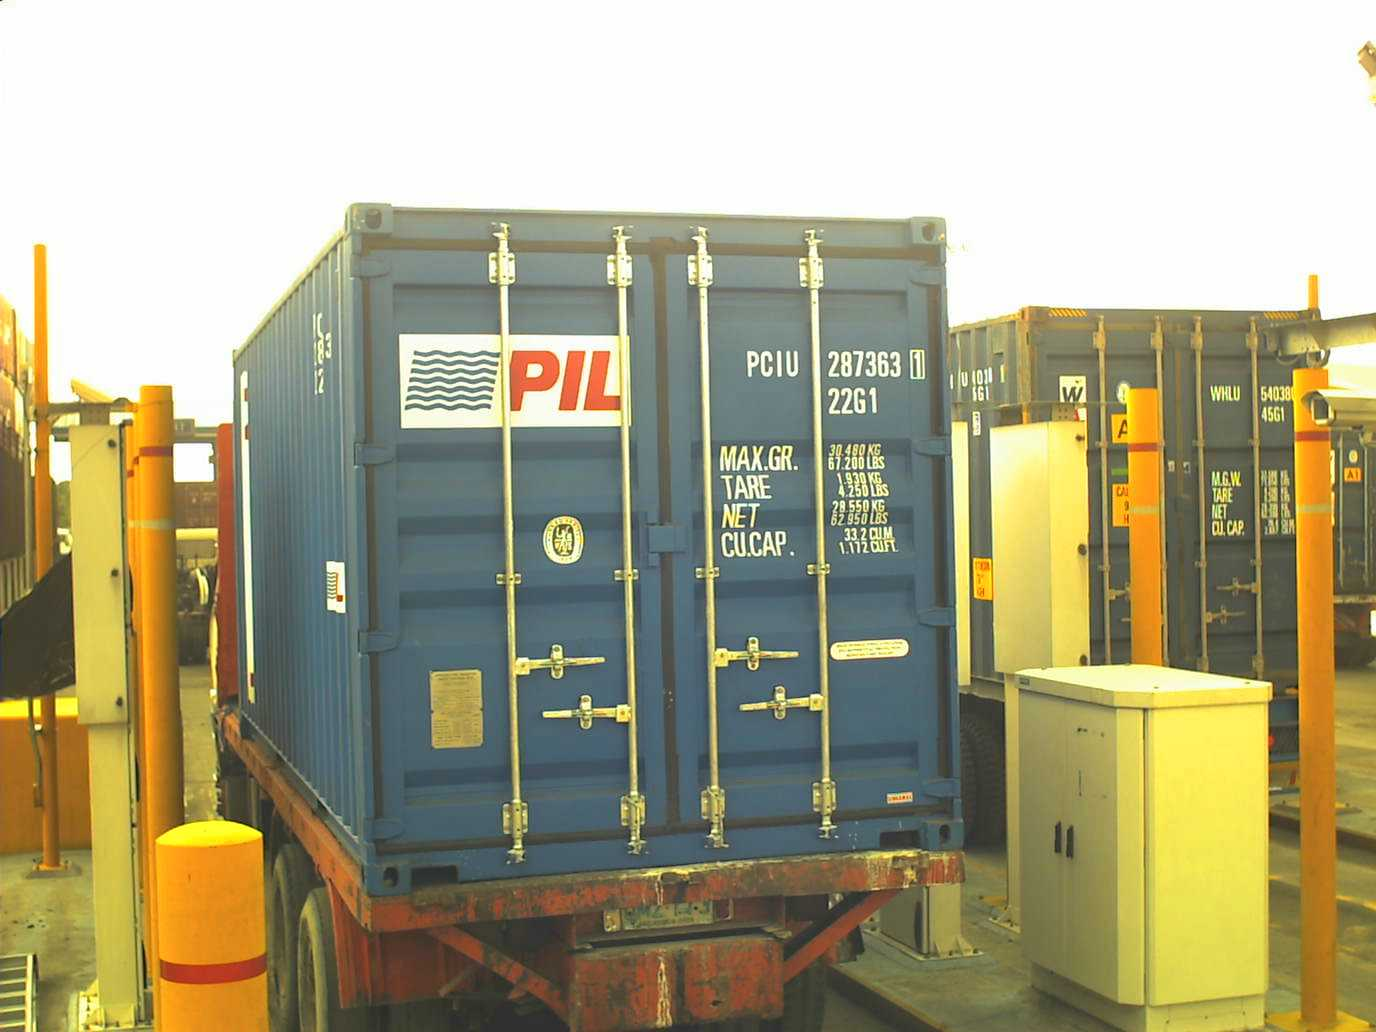container_door: (341, 202, 966, 873)
